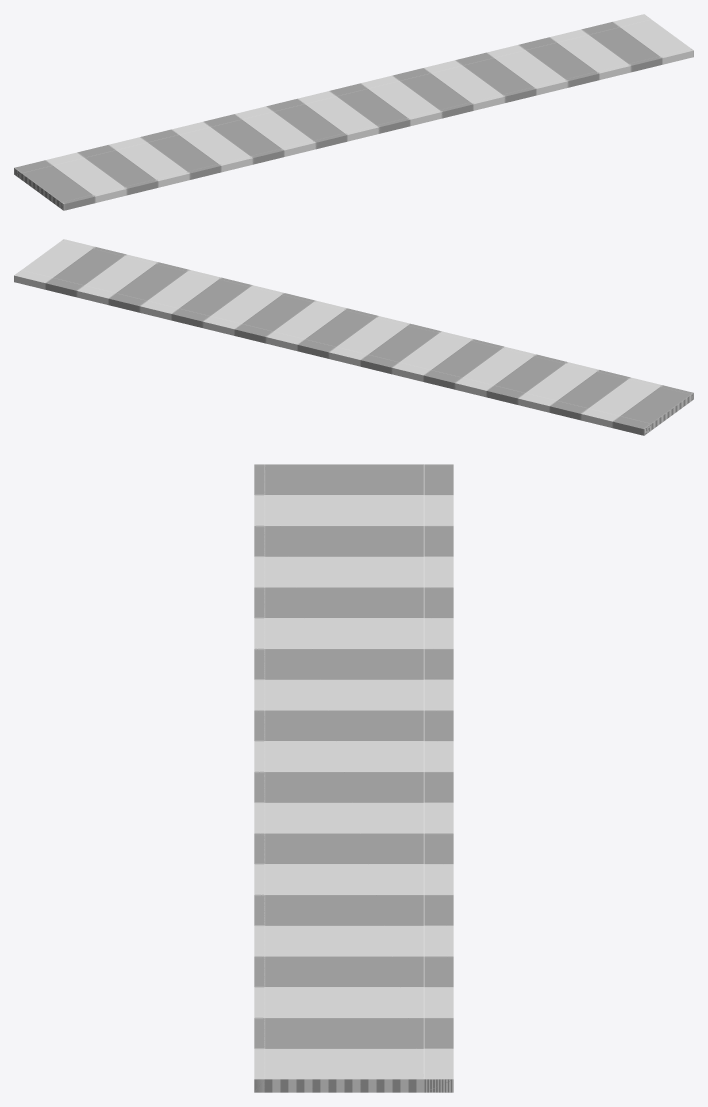
The model's file is Ramp.fbx.
The picture shows the model from 3 angles, top to bottom: view 1: azimuth 30°, elevation 25°; view 2: azimuth 150°, elevation 25°; view 3: azimuth 270°, elevation 25°; orthographic projection. The views are drawn at different scales.
Parts seen in each view (by area): view 1: Plateform_Base, Right_side, left_side; view 2: Plateform_Base, left_side, Right_side; view 3: Plateform_Base, left_side, Right_side.
Part boxes in pixels (x1=…): Plateform_Base: x1=21, y1=19, x2=690, y2=208; Right_side: x1=61, y1=48, x2=693, y2=210; left_side: x1=14, y1=14, x2=650, y2=179; Plateform_Base: x1=21, y1=241, x2=691, y2=430; left_side: x1=14, y1=270, x2=651, y2=435; Right_side: x1=61, y1=239, x2=693, y2=400; Plateform_Base: x1=264, y1=464, x2=424, y2=1092; left_side: x1=424, y1=464, x2=453, y2=1092; Right_side: x1=254, y1=464, x2=264, y2=1092.
Size of the model in its own units: 10000 by 100 by 1369.
1 material, 1 textured.
